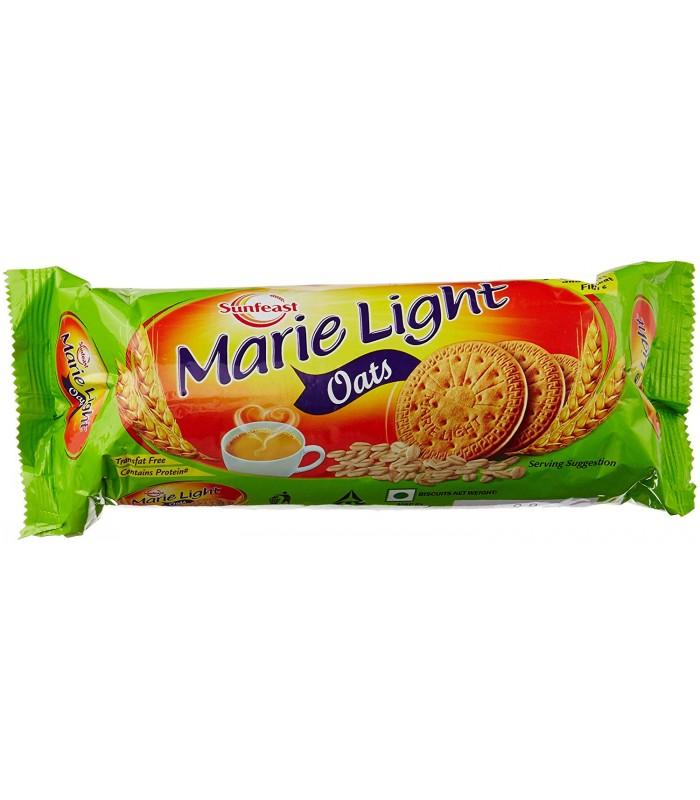MarieLight: (3, 257, 698, 543)
